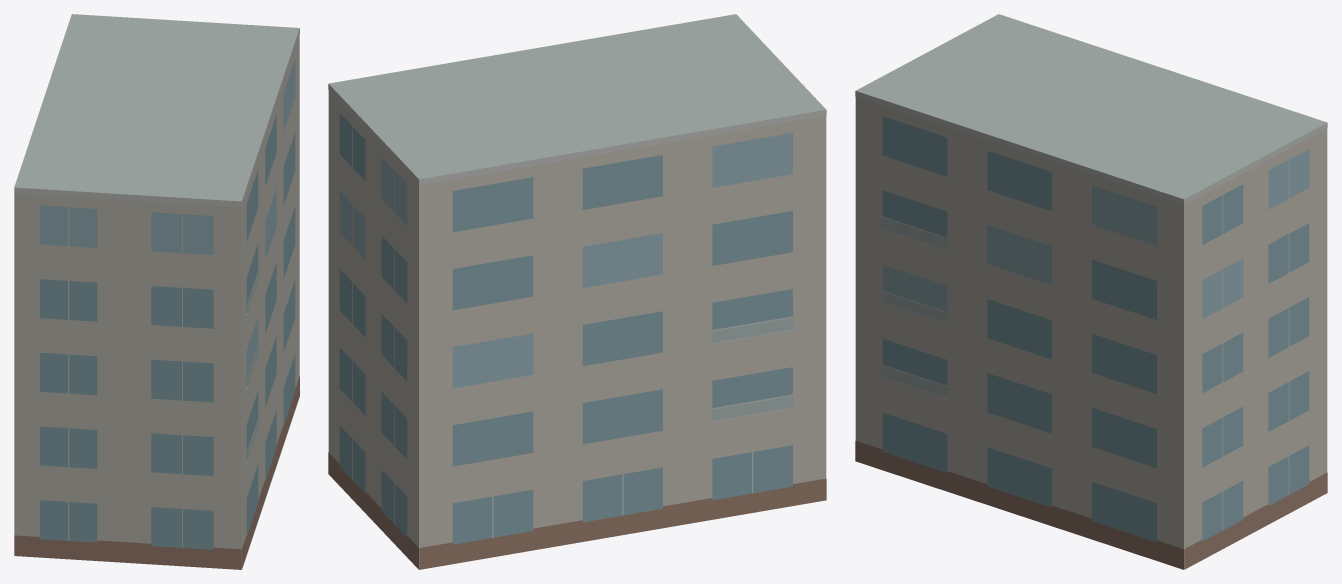
File: survey-upis-32963015.glb
3 renders of one model, left to right at view 1: azimuth 30°, elevation 25°; view 2: azimuth 150°, elevation 25°; view 3: azimuth 270°, elevation 25°, orthographic. The views are drawn at different scales.
Visible parts, largest first — view 1: survey-upis-32963015.tmp; view 2: survey-upis-32963015.tmp; view 3: survey-upis-32963015.tmp.
Part boxes in pixels (box(x1,y1,x2,y2)): survey-upis-32963015.tmp: box(14, 14, 299, 569); survey-upis-32963015.tmp: box(328, 14, 826, 569); survey-upis-32963015.tmp: box(855, 14, 1327, 569).
Size of the model in its own units: 16.8 by 15.65 by 18.07.
